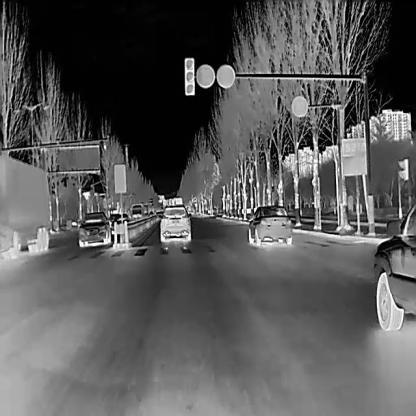car: (371, 195, 416, 331), (0, 151, 51, 260), (246, 203, 291, 245), (157, 202, 191, 242), (77, 209, 110, 247), (129, 201, 144, 224)
